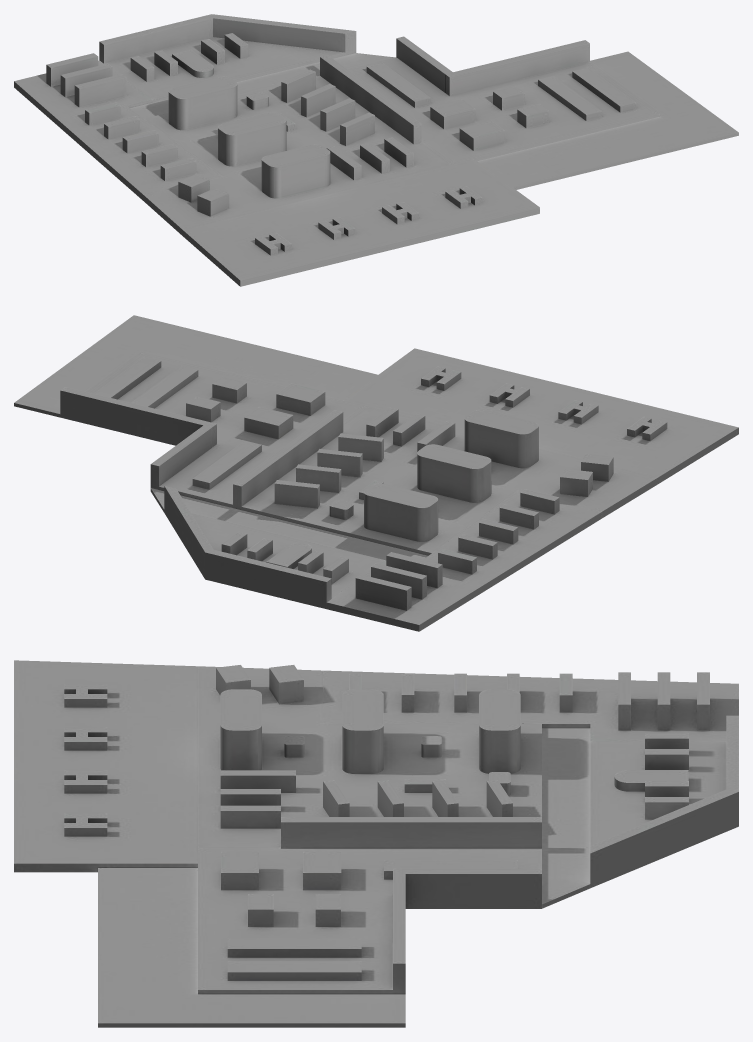
File: retail-map.glb
3 renders of one model, top to bottom at view 1: azimuth 30°, elevation 25°; view 2: azimuth 150°, elevation 25°; view 3: azimuth 270°, elevation 25°, orthographic. The views are drawn at different scales.
Visible parts, largest first — view 1: Produce, Clothing, Entrance, Electronics, Packaged, Path1, Path2; view 2: Produce, Clothing, Entrance, Packaged, Path1, Electronics, Path2; view 3: Produce, Clothing, Entrance, Path1, Packaged, Electronics, Path2.
Part boxes in pixels (x1,y1,x2,y2): Produce: (144,55,451,235); Clothing: (347,36,659,164); Entrance: (182,159,539,286); Electronics: (99,14,356,102); Packaged: (14,53,222,201); Path1: (477,51,738,189); Path2: (130,53,394,118); Produce: (233,406,657,555); Clothing: (60,351,366,507); Entrance: (343,348,738,483); Packaged: (326,489,602,631); Path1: (14,315,377,417); Electronics: (164,486,384,608); Path2: (150,488,427,560); Produce: (198,665,541,848); Clothing: (198,848,541,994); Entrance: (14,660,197,872); Path1: (98,868,405,1027); Packaged: (322,670,738,741); Electronics: (590,715,738,888); Path2: (542,728,590,908).
Bounding box in the file's own units: 176 × 12 × 151.
6 materials, 6 textured.
